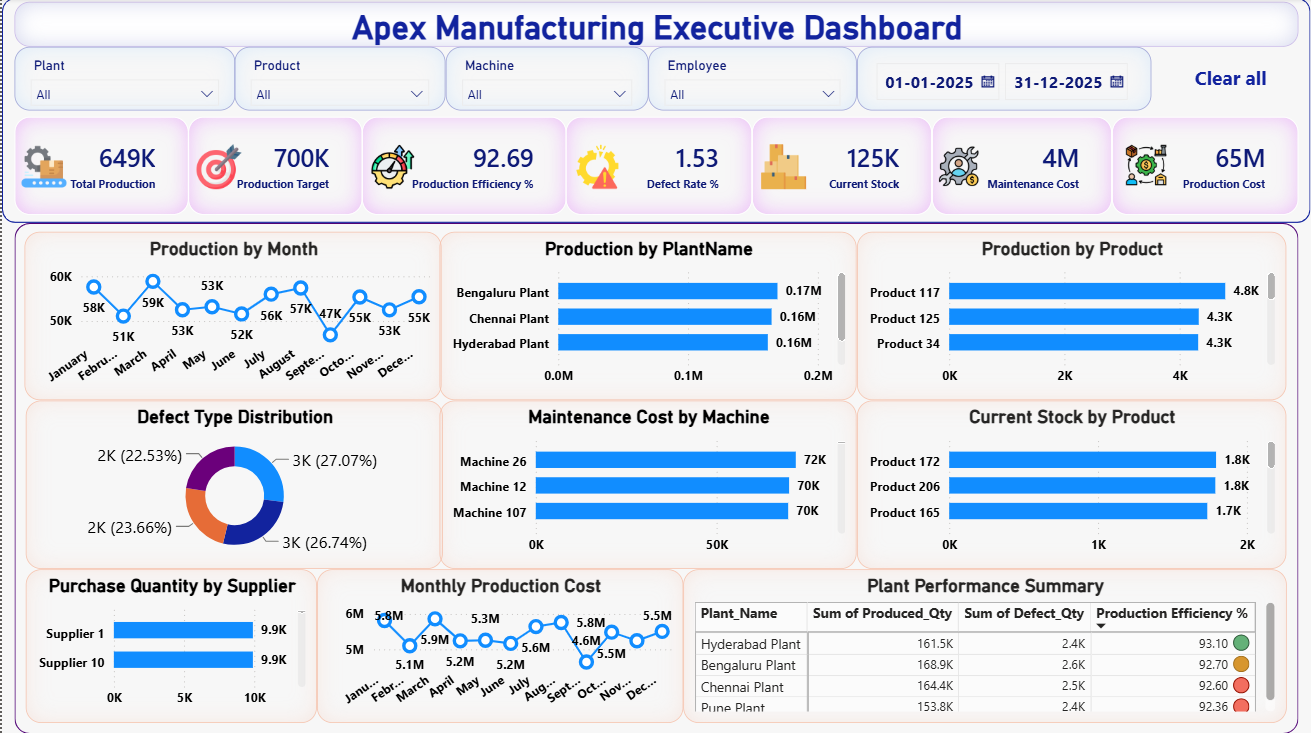

The dashboard page shown, as its layout file describes it:
{"tool":"powerbi","page":{"name":"Executive Dashboard","canvas":[1280,720],"ordinal":0},"visuals":[{"type":"shape","box":[12,220,1256,500],"z":0},{"type":"lineChart","title":"Production by Month","fields":{"Category":["Date.Month"],"Y":["_Measures.Total Production"]},"box":[21.7,228.3,408.3,165],"z":1000},{"type":"clusteredBarChart","title":"Production by PlantName","fields":{"Y":["_Measures.Total Production"],"Category":["Plants.Plant_Name"]},"box":[428.3,228.3,408.3,165],"z":2000},{"type":"clusteredBarChart","title":"Production by Product","fields":{"Category":["Products.Product_Name"],"Y":["_Measures.Total Production"]},"box":[836.7,228.3,420,165],"z":3000},{"type":"donutChart","title":"Defect Type Distribution","fields":{"Category":["Quality.Defect_Type"],"Y":["_Measures.Total Defects"]},"box":[23.3,393.3,408.3,165],"z":4000},{"type":"clusteredBarChart","title":"Maintenance Cost by Machine","fields":{"Y":["Sum(Maintenance.Maintenance_Cost)"],"Category":["Machines.Machine_Name"]},"box":[428.3,393.3,408.3,165],"z":5000},{"type":"clusteredBarChart","title":"Current Stock by Product","fields":{"Category":["Products.Product_Name"],"Y":["_Measures.Current Stock"]},"box":[836.7,393.3,420,165],"z":6000},{"type":"clusteredBarChart","title":"Purchase Quantity by Supplier","fields":{"Category":["Suppliers.Supplier_Name"],"Y":["Sum(Quality.Defect_Qty)"]},"box":[23.3,558.3,285,150],"z":7000},{"type":"lineChart","title":"Monthly Production Cost","fields":{"Category":["Date.Month"],"Y":["Sum(Production.Production_Cost)"]},"box":[308.3,558.3,358.3,150],"z":8000},{"type":"pivotTable","title":"Plant Performance Summary","fields":{"Rows":["Plants.Plant_Name"],"Values":["Sum(Production.Produced_Qty)","Sum(Quality.Defect_Qty)","_Measures.Production Efficiency %"]},"box":[666.7,558.3,590,150],"z":9000},{"type":"shape","box":[0,0,1280,220],"z":10000},{"type":"textbox","title":"Apex Manufacturing Executive Dashboard","box":[12,4,1256,44],"z":11000},{"type":"slicer","fields":{"Values":["Plants.Plant_Name"]},"box":[12,48,216,62],"z":12000},{"type":"cardVisual","fields":{"Data":["_Measures.Total Production"]},"box":[12,116,170,96],"z":13000},{"type":"slicer","fields":{"Values":["Products.Product_Name"]},"box":[228,48,206,62],"z":14000},{"type":"slicer","fields":{"Values":["Machines.Machine_Name"]},"box":[434,48,198,62],"z":15000},{"type":"slicer","fields":{"Values":["Employees.Employee_Name"]},"box":[632,48,204,62],"z":16000},{"type":"slicer","fields":{"Values":["Date.Date"]},"box":[836,48,288,62],"z":17000},{"type":"cardVisual","fields":{"Data":["_Measures.Production Target"]},"box":[182,116,170,96],"z":18000},{"type":"cardVisual","fields":{"Data":["_Measures.Production Efficiency %"]},"box":[352,116,200,96],"z":19000},{"type":"cardVisual","fields":{"Data":["_Measures.Defect Rate %"]},"box":[552,116,182,96],"z":20000},{"type":"cardVisual","fields":{"Data":["_Measures.Current Stock"]},"box":[734,116,176,96],"z":21000},{"type":"cardVisual","fields":{"Data":["_Measures.Maintenance Cost"]},"box":[910,116,176,96],"z":22000},{"type":"cardVisual","fields":{"Data":["_Measures.Production Cost"]},"box":[1086,116,182,96],"z":23000},{"type":"image","box":[16.2,142.5,50,43.8],"z":24000},{"type":"image","box":[187.5,142.5,50,43.8],"z":25000},{"type":"image","box":[357.5,142.5,50,43.8],"z":26000},{"type":"image","box":[558.8,142.5,47.5,43.8],"z":27000},{"type":"image","box":[741.2,142.5,47.5,43.8],"z":28000},{"type":"image","box":[916.2,142.5,40,43.8],"z":29000},{"type":"image","box":[1098.8,141.2,40,43.8],"z":30000},{"type":"actionButton","box":[1123.3,46.7,156.4,61.4],"z":30001}]}

Visuals, with their boxes in screenshot pixels (x1, y1, x2, y2), scaled from the page's 1280x720 canvas onto the 1311x733 screenshot:
shape: locate(12, 224, 1299, 732)
"Production by Month" lineChart: locate(22, 232, 440, 400)
"Production by PlantName" clusteredBarChart: locate(439, 232, 857, 400)
"Production by Product" clusteredBarChart: locate(857, 232, 1287, 400)
"Defect Type Distribution" donutChart: locate(24, 400, 442, 568)
"Maintenance Cost by Machine" clusteredBarChart: locate(439, 400, 857, 568)
"Current Stock by Product" clusteredBarChart: locate(857, 400, 1287, 568)
"Purchase Quantity by Supplier" clusteredBarChart: locate(24, 568, 316, 721)
"Monthly Production Cost" lineChart: locate(316, 568, 683, 721)
"Plant Performance Summary" pivotTable: locate(683, 568, 1287, 721)
shape: locate(0, 0, 1310, 224)
"Apex Manufacturing Executive Dashboard" textbox: locate(12, 4, 1299, 49)
slicer - Plants.Plant_Name: locate(12, 49, 234, 112)
cardVisual - _Measures.Total Production: locate(12, 118, 186, 216)
slicer - Products.Product_Name: locate(234, 49, 445, 112)
slicer - Machines.Machine_Name: locate(445, 49, 647, 112)
slicer - Employees.Employee_Name: locate(647, 49, 856, 112)
slicer - Date.Date: locate(856, 49, 1151, 112)
cardVisual - _Measures.Production Target: locate(186, 118, 361, 216)
cardVisual - _Measures.Production Efficiency %: locate(361, 118, 565, 216)
cardVisual - _Measures.Defect Rate %: locate(565, 118, 752, 216)
cardVisual - _Measures.Current Stock: locate(752, 118, 932, 216)
cardVisual - _Measures.Maintenance Cost: locate(932, 118, 1112, 216)
cardVisual - _Measures.Production Cost: locate(1112, 118, 1299, 216)
image: locate(17, 145, 68, 190)
image: locate(192, 145, 243, 190)
image: locate(366, 145, 417, 190)
image: locate(572, 145, 621, 190)
image: locate(759, 145, 808, 190)
image: locate(938, 145, 979, 190)
image: locate(1125, 144, 1166, 188)
actionButton: locate(1151, 48, 1310, 110)
